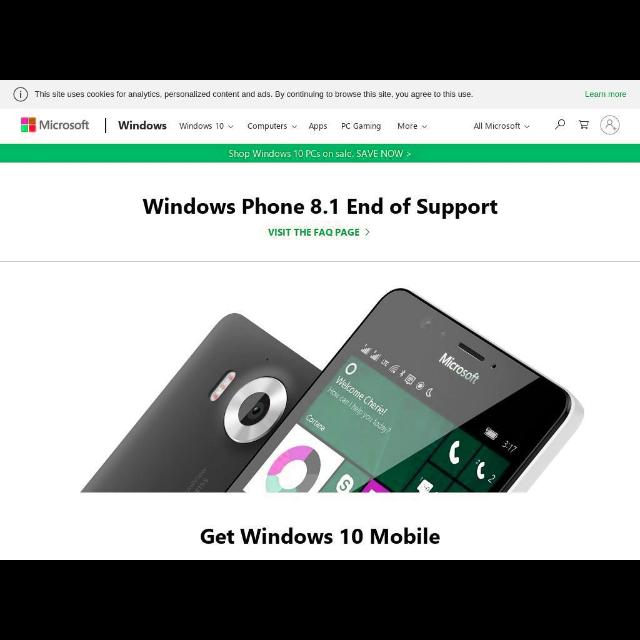icon: (600, 116, 620, 134), (13, 88, 29, 100), (554, 120, 566, 132), (578, 120, 590, 130), (227, 122, 233, 132), (522, 124, 530, 130), (364, 228, 370, 236), (422, 124, 428, 130), (292, 124, 298, 130)
iframe: (4, 82, 638, 105)
image: (1, 262, 639, 492), (21, 116, 89, 134)
link: (268, 227, 360, 239), (584, 90, 626, 98)
spinner: (288, 124, 300, 130), (226, 122, 234, 130), (420, 124, 430, 130), (520, 124, 530, 130)
text: (142, 197, 498, 215), (202, 528, 440, 544), (36, 92, 472, 98), (230, 148, 404, 160), (118, 120, 168, 132), (474, 122, 520, 130), (342, 122, 382, 130), (180, 122, 224, 128), (248, 123, 288, 129), (308, 122, 328, 130), (398, 124, 418, 130)
